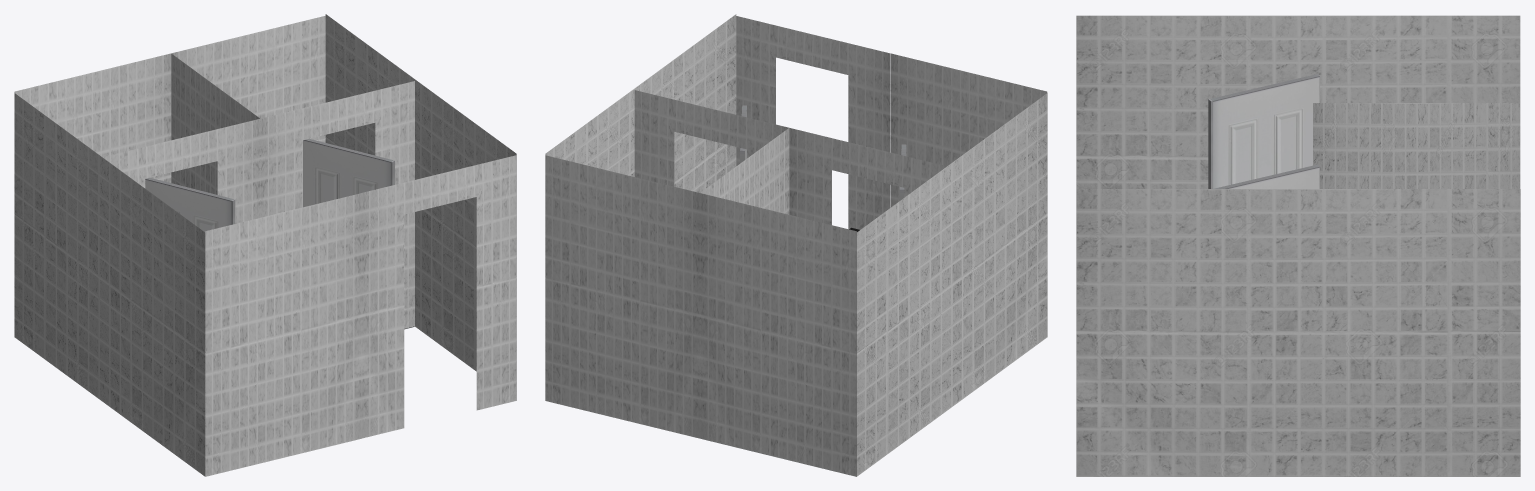
Rendered from toiletruimte.gltf.
3 renders of one model, left to right at view 1: azimuth 30°, elevation 25°; view 2: azimuth 150°, elevation 25°; view 3: azimuth 270°, elevation 25°, orthographic. The views are drawn at different scales.
Parts seen in each view (by area): view 1: wall02.001, wall01.005, wall01.004, wall02, wall01.001, wall01.002, wall01, wall01.003, wall03.001, Plane.002, Plane.001; view 2: wall02.001, wall01.002, wall01, wall01.004, wall02, wall01.005, wall01.003, wall01.001, wall03.001; view 3: wall02, wall02.001, wall03.001, Plane.001, Plane.002.
Part boxes in pixels (bbox=[...]): wall02.001: bbox=[14, 93, 205, 476]; wall01.005: bbox=[205, 193, 361, 476]; wall01.004: bbox=[362, 155, 516, 438]; wall02: bbox=[325, 14, 516, 400]; wall01.001: bbox=[260, 81, 414, 328]; wall01.002: bbox=[14, 53, 170, 336]; wall01: bbox=[171, 15, 325, 182]; wall01.003: bbox=[103, 119, 260, 223]; wall03.001: bbox=[171, 53, 259, 194]; Plane.002: bbox=[303, 138, 394, 207]; Plane.001: bbox=[145, 177, 235, 232]; wall02.001: bbox=[857, 93, 1047, 476]; wall01.002: bbox=[700, 193, 856, 476]; wall01: bbox=[545, 155, 700, 438]; wall01.004: bbox=[736, 16, 890, 229]; wall02: bbox=[545, 14, 736, 192]; wall01.005: bbox=[891, 53, 1047, 207]; wall01.003: bbox=[789, 128, 945, 224]; wall01.001: bbox=[634, 90, 788, 186]; wall03.001: bbox=[700, 128, 789, 214]; wall02: bbox=[1076, 189, 1520, 476]; wall02.001: bbox=[1076, 15, 1520, 188]; wall03.001: bbox=[1313, 103, 1520, 188]; Plane.001: bbox=[1208, 74, 1319, 188]; Plane.002: bbox=[1213, 164, 1319, 188].
Bounding box in the file's own units: 3.56 × 2.7 × 3.78.
Materials: 13 (7 with a texture image).
